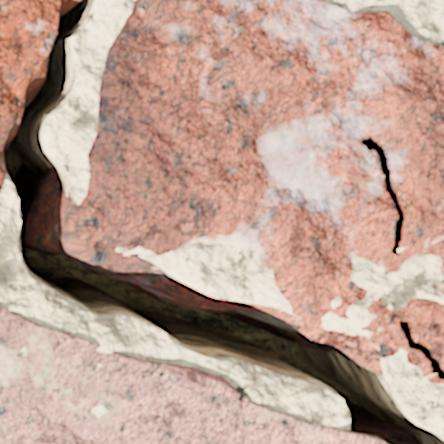brick: (64, 0, 443, 332), (0, 308, 385, 443), (0, 0, 63, 190), (352, 298, 443, 375), (432, 282, 443, 293), (428, 375, 443, 382), (131, 254, 142, 259), (441, 261, 443, 271)
crack: (1, 0, 443, 443), (398, 320, 443, 380)
